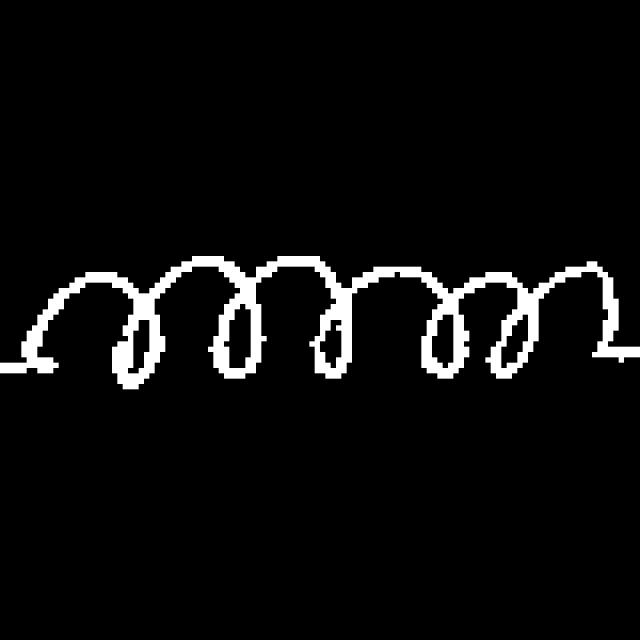inductor: (16, 241, 624, 402)
